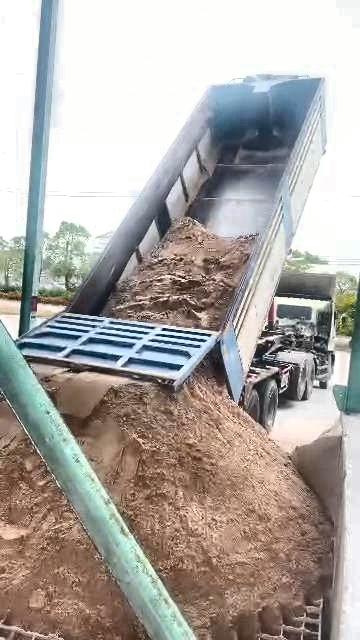sand: (47, 368, 330, 639), (0, 439, 144, 639), (105, 218, 255, 330), (289, 424, 343, 514), (0, 402, 23, 450), (198, 347, 223, 383)
